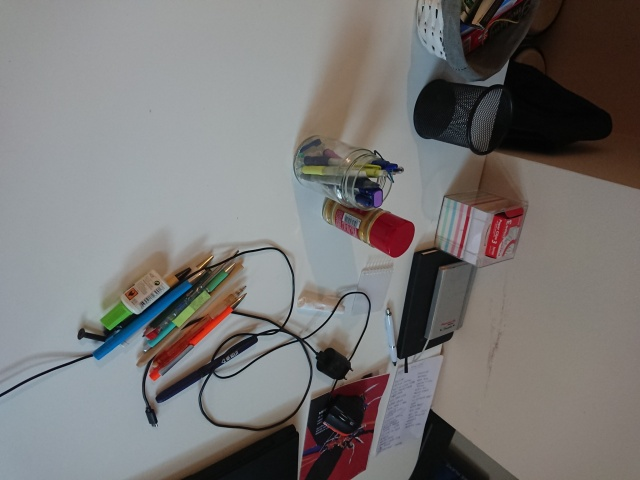Kotanyi Curry Spices Mix 70g: (320, 188, 417, 259)
